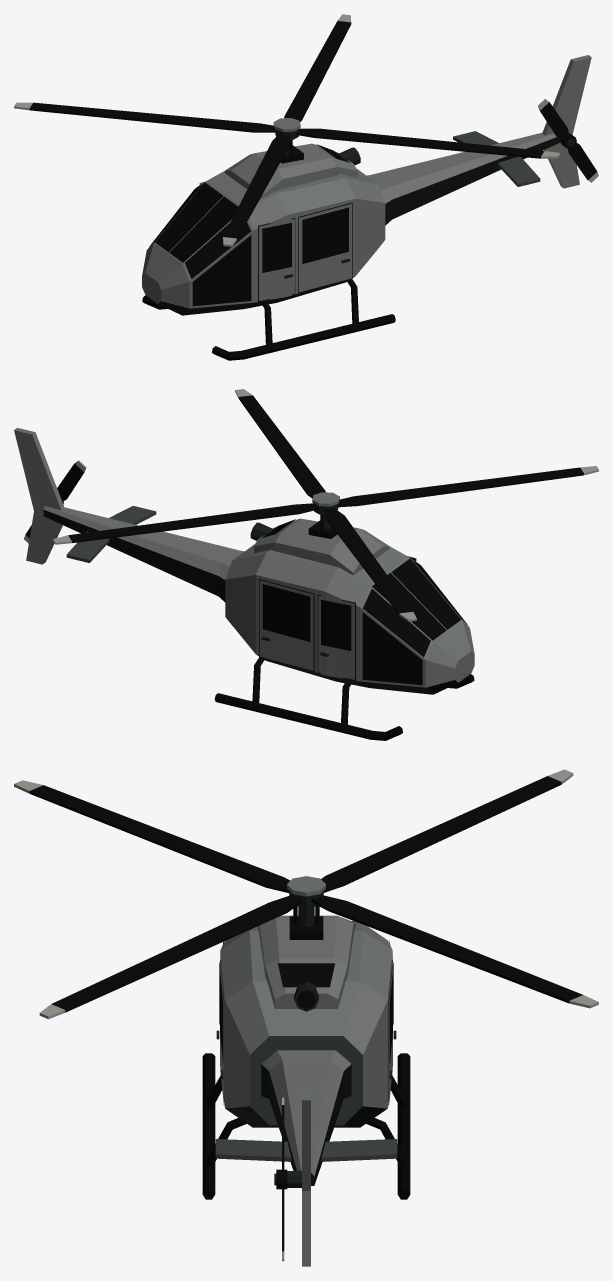
The model's file is Low_Poly_Helicopter.fbx.
3 renders of one model, top to bottom at view 1: azimuth 30°, elevation 25°; view 2: azimuth 150°, elevation 25°; view 3: azimuth 270°, elevation 25°, orthographic. The views are drawn at different scales.
Parts seen in each view (by area): view 1: Helicopter_Body, Main_Rotor_4_Blades, Tail_Rotor_2_Blades; view 2: Helicopter_Body, Main_Rotor_4_Blades, Tail_Rotor_2_Blades; view 3: Helicopter_Body, Main_Rotor_4_Blades, Tail_Rotor_2_Blades.
Part boxes in pixels (x1,y1,x2,y2): Helicopter_Body: [142, 55, 591, 360]; Main_Rotor_4_Blades: [14, 14, 560, 246]; Tail_Rotor_2_Blades: [538, 99, 598, 182]; Helicopter_Body: [14, 428, 474, 740]; Main_Rotor_4_Blades: [53, 389, 598, 621]; Tail_Rotor_2_Blades: [24, 460, 86, 543]; Helicopter_Body: [202, 906, 410, 1266]; Main_Rotor_4_Blades: [14, 769, 598, 1019]; Tail_Rotor_2_Blades: [274, 1097, 287, 1261].
Size of the model in its own units: 818 by 307 by 612.
8 materials, 8 textured.
